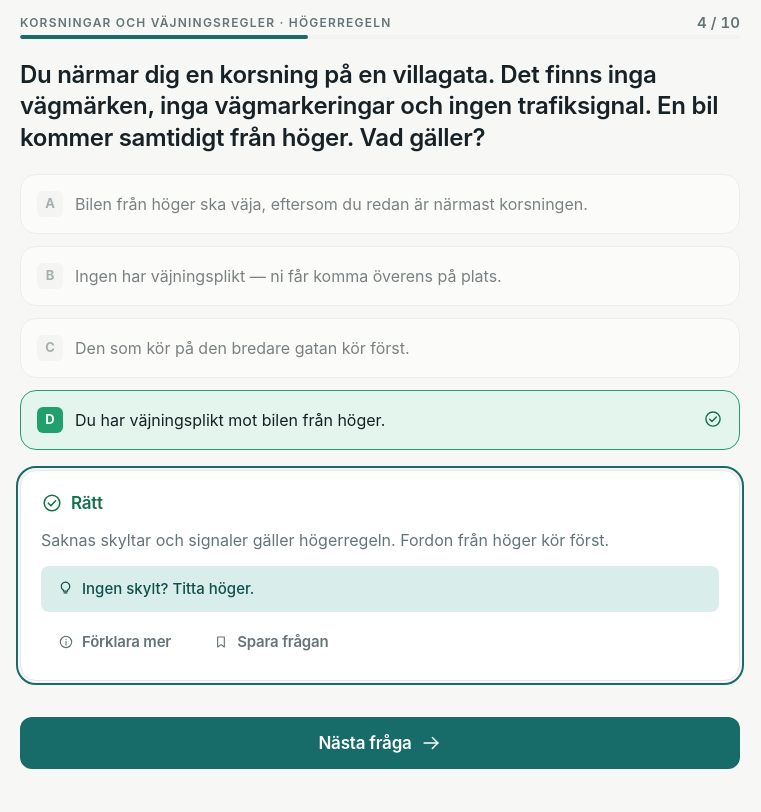
Test case: QuestionCard › reveals the deeper explanation only on request
Step 1. Click the button "Förklara mer" → point(115, 642), box x1=41 y1=624 x2=188 y2=660
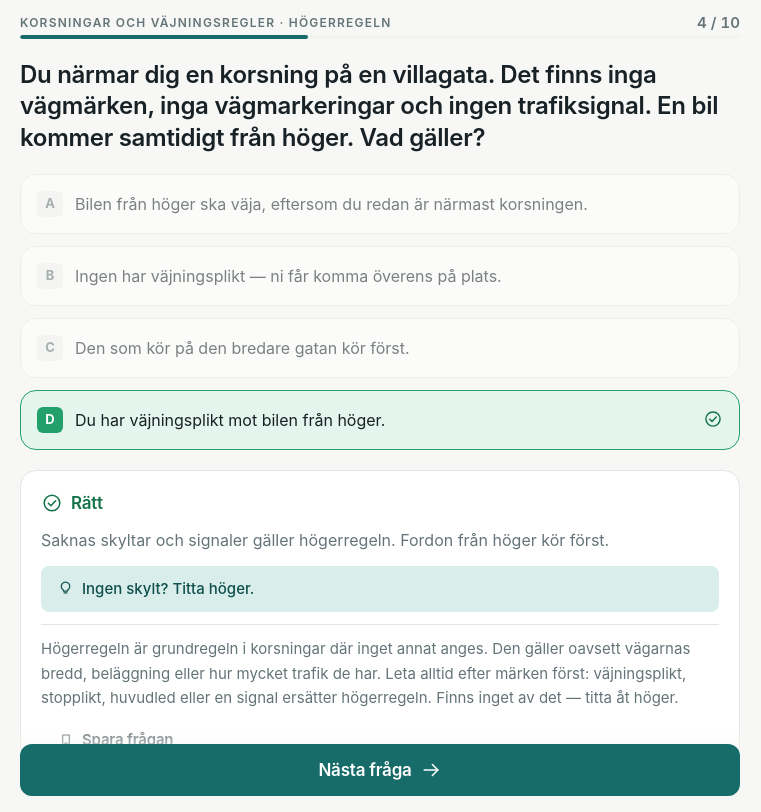
Result: the text "Högerregeln är grundregeln i korsningar där inget annat anges. Den gäller oavsett vägarnas bredd, beläggning eller hur m" is shown at x1=41 y1=639 x2=690 y2=707
